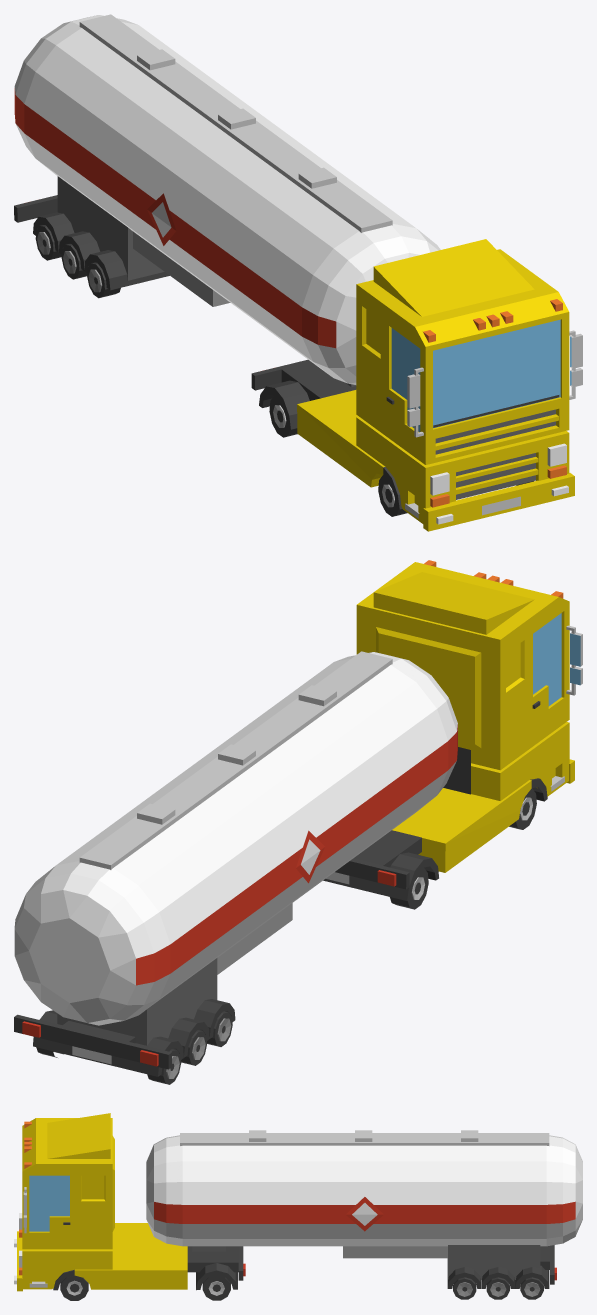
Rendered from Truck_4.fbx.
3 renders of one model, top to bottom at view 1: azimuth 30°, elevation 25°; view 2: azimuth 150°, elevation 25°; view 3: azimuth 270°, elevation 25°, orthographic. The views are drawn at different scales.
Parts seen in each view (by area): view 1: Truck_Gas_Tank, Truck_4; view 2: Truck_Gas_Tank, Truck_4; view 3: Truck_Gas_Tank, Truck_4.
Part boxes in pixels (x1,y1,x2,y2): Truck_Gas_Tank: (14,14,440,384); Truck_4: (251,239,582,531); Truck_Gas_Tank: (14,651,457,1084); Truck_4: (323,560,582,909); Truck_Gas_Tank: (146,1130,582,1299); Truck_4: (14,1113,245,1300).
Bounding box in the file's own units: 1.04 × 1.3 × 4.52.
